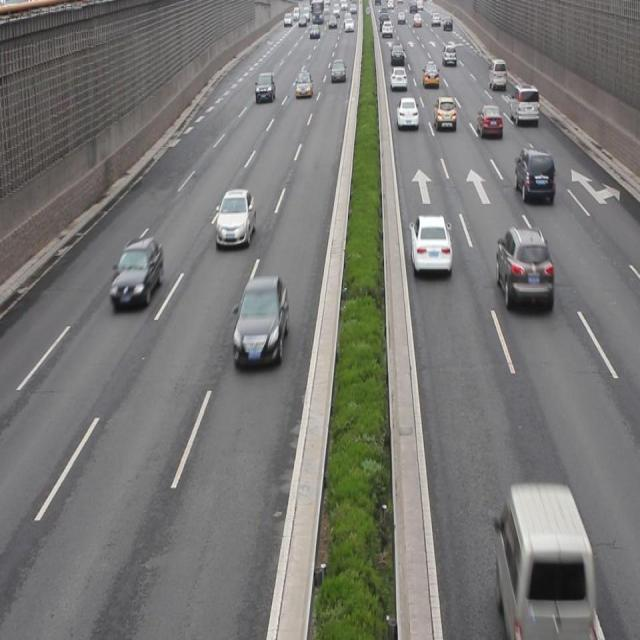car: (234, 277, 288, 369), (497, 226, 551, 311), (110, 238, 164, 310), (409, 212, 452, 276), (216, 187, 254, 249), (514, 146, 552, 204), (475, 104, 502, 138)
truck: (493, 482, 592, 628)
